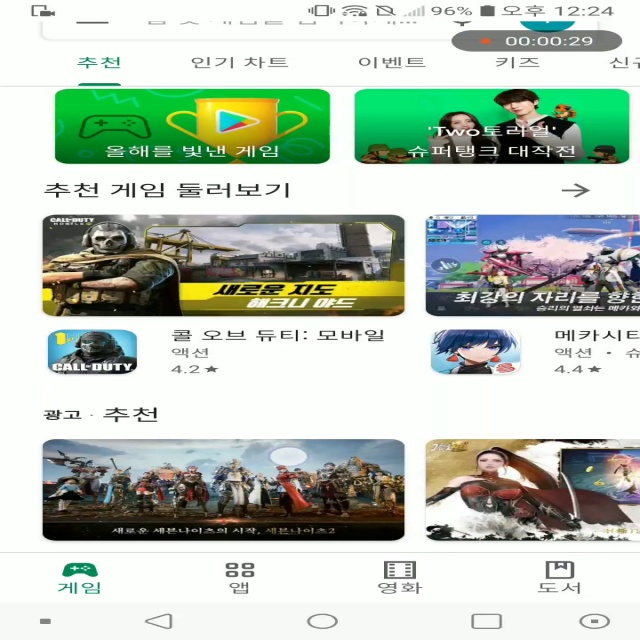Cursor: (266, 446, 311, 468)
